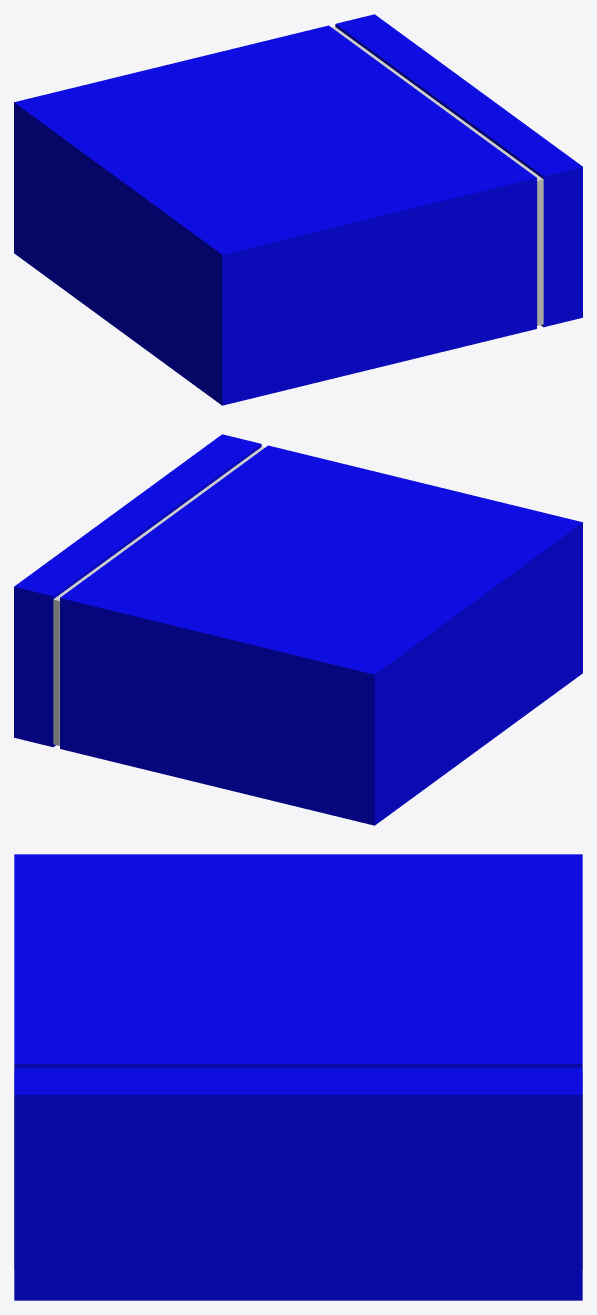
File: FloorV2_0.5x0.5Merged.fbx
3 renders of one model, top to bottom at view 1: azimuth 30°, elevation 25°; view 2: azimuth 150°, elevation 25°; view 3: azimuth 270°, elevation 25°, orthographic. The views are drawn at different scales.
Visible parts, largest first — view 1: FloorV2_0_5x0_5_Combined; view 2: FloorV2_0_5x0_5_Combined; view 3: FloorV2_0_5x0_5_Combined.
Part boxes in pixels (left/top/right/bottom): FloorV2_0_5x0_5_Combined: left=14, top=14, right=582, bottom=405; FloorV2_0_5x0_5_Combined: left=14, top=434, right=582, bottom=825; FloorV2_0_5x0_5_Combined: left=14, top=854, right=582, bottom=1300.
Bounding box in the file's own units: 250 × 100 × 250.
